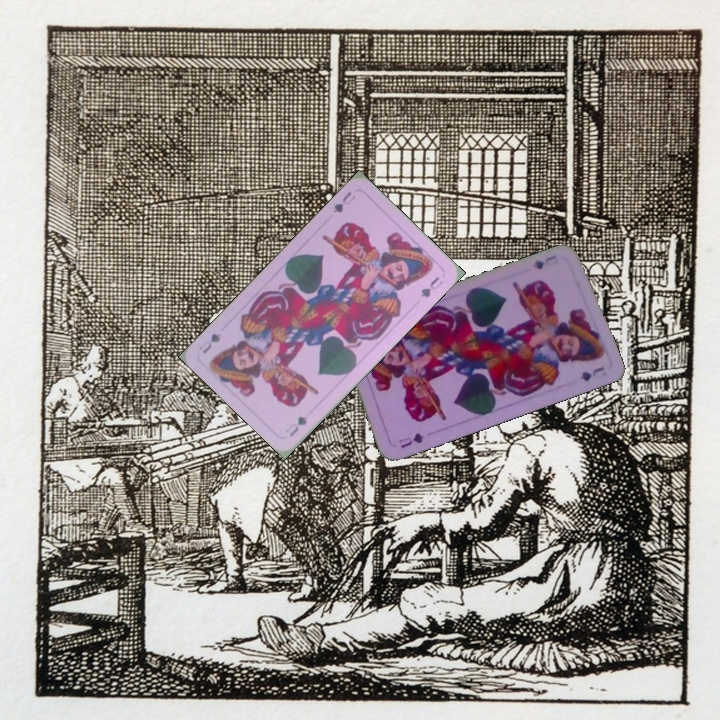GU: (329, 187, 358, 216), (281, 412, 310, 439), (395, 429, 427, 451), (529, 251, 559, 272)
